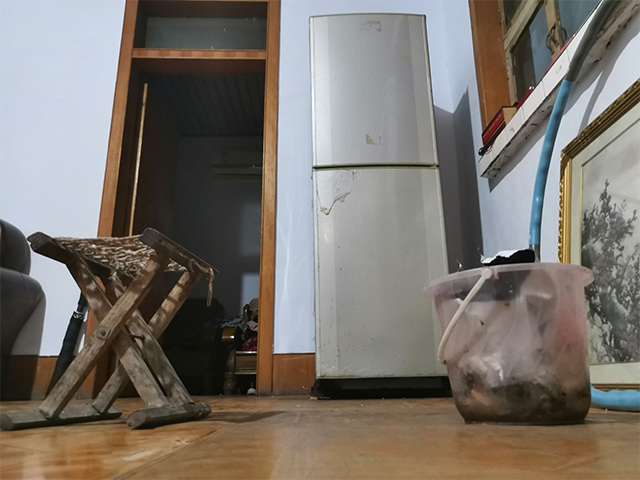stool: (1, 225, 220, 434)
trashcan: (420, 261, 597, 427)
